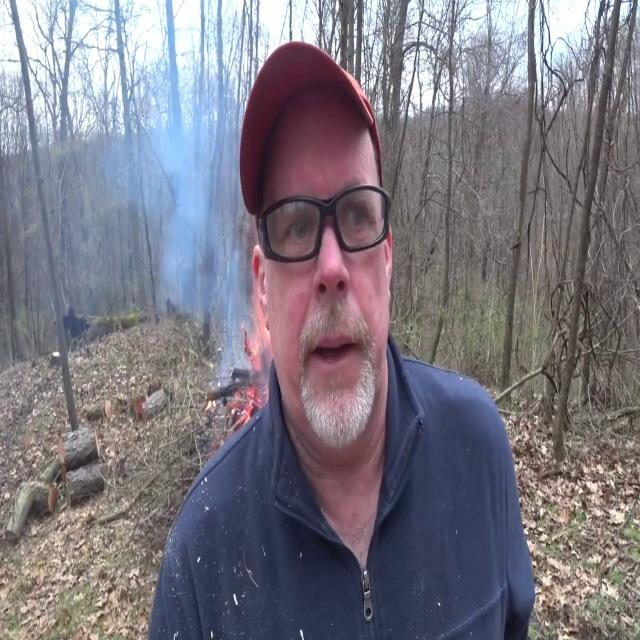Smoke: (145, 49, 246, 378)
